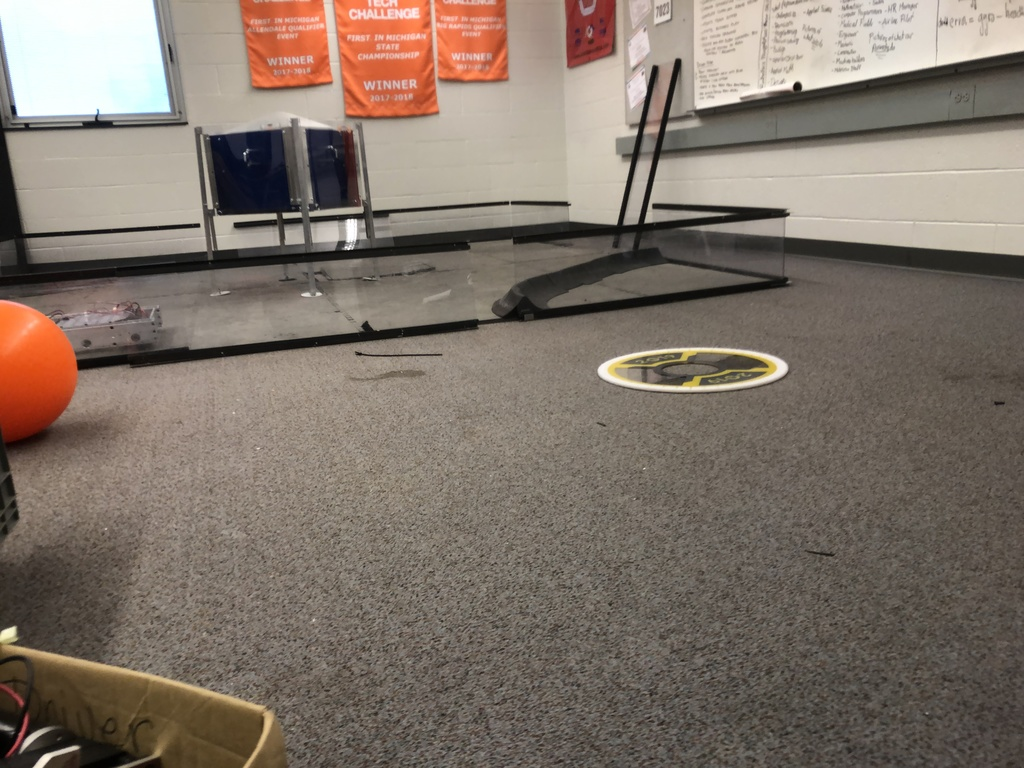hatch_panel: (587, 338, 803, 401)
